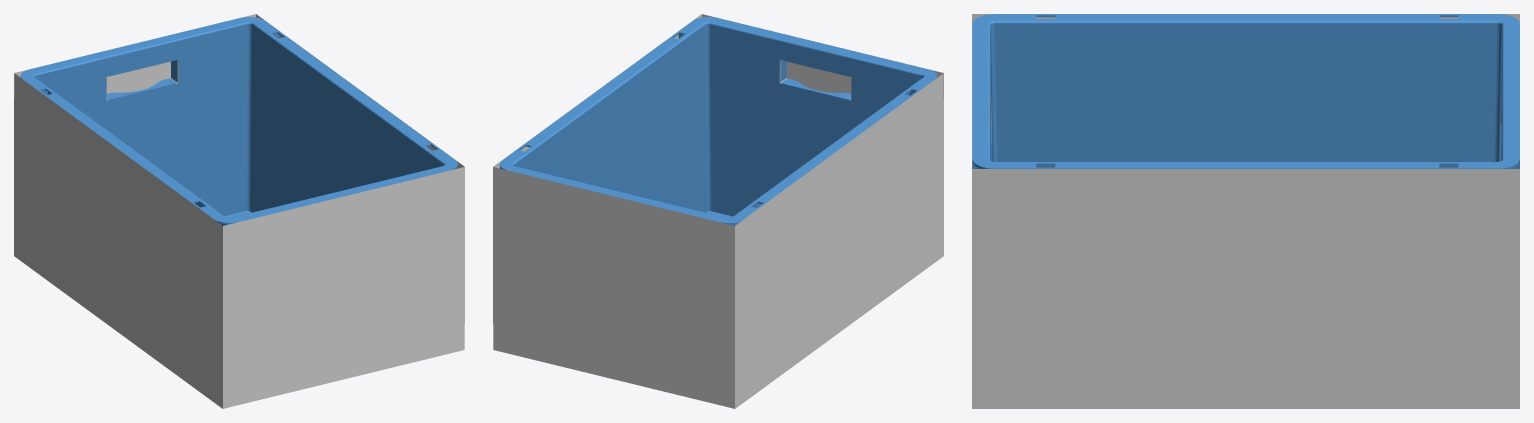
File: klt_643.fbx
The picture shows the model from 3 angles, left to right: view 1: azimuth 30°, elevation 25°; view 2: azimuth 150°, elevation 25°; view 3: azimuth 270°, elevation 25°; orthographic projection. The views are drawn at different scales.
Parts seen in each view (by area): view 1: BRep_1.001, DataLabel.005, DataLabel.003, DataLabel.007; view 2: BRep_1.001, DataLabel.007, DataLabel.003, DataLabel.005; view 3: DataLabel.006, BRep_1.001.
Part boxes in pixels (x1,y1,x2,y2): BRep_1.001: [20, 17, 457, 225]; DataLabel.005: [223, 167, 464, 408]; DataLabel.003: [14, 73, 222, 408]; DataLabel.007: [14, 14, 255, 98]; BRep_1.001: [499, 17, 937, 225]; DataLabel.007: [493, 167, 734, 408]; DataLabel.003: [735, 73, 943, 408]; DataLabel.005: [702, 14, 943, 98]; DataLabel.006: [972, 169, 1519, 408]; BRep_1.001: [972, 14, 1519, 168].
Bounding box in the file's own units: 40.43 × 30 × 60.39.
